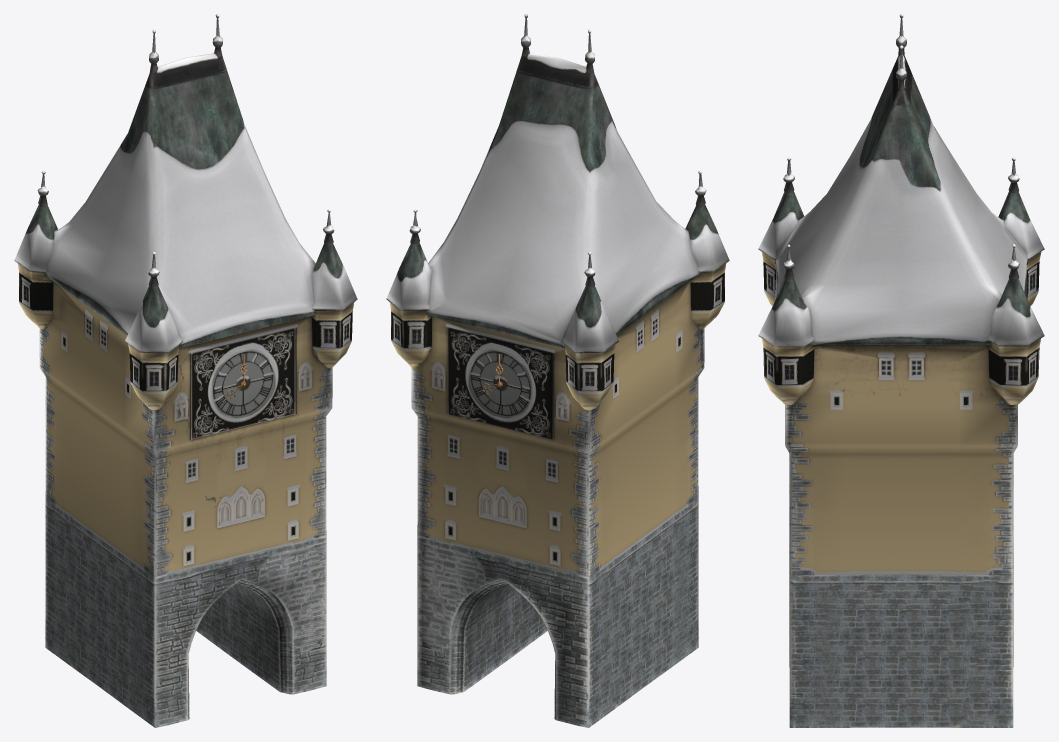
The model's file is Tower-3.FBX.
3 renders of one model, left to right at view 1: azimuth 30°, elevation 25°; view 2: azimuth 150°, elevation 25°; view 3: azimuth 270°, elevation 25°, orthographic.
Parts seen in each view (by area): view 1: Tower-3; view 2: Tower-3; view 3: Tower-3.
Boxes of the visible parts, x1=… form: Tower-3: x1=14, y1=14, x2=357, y2=727; Tower-3: x1=386, y1=14, x2=729, y2=727; Tower-3: x1=758, y1=14, x2=1044, y2=727.
Bounding box in the file's own units: 49.61 × 140 × 55.61.
3 materials, 3 textured.
